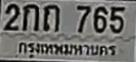2: (3, 3, 19, 30)
5: (109, 6, 124, 33)
6: (94, 5, 107, 32)
7: (76, 4, 90, 32)
A01: (22, 3, 38, 30)
A22: (42, 4, 59, 31)
BKK: (15, 38, 118, 61)
